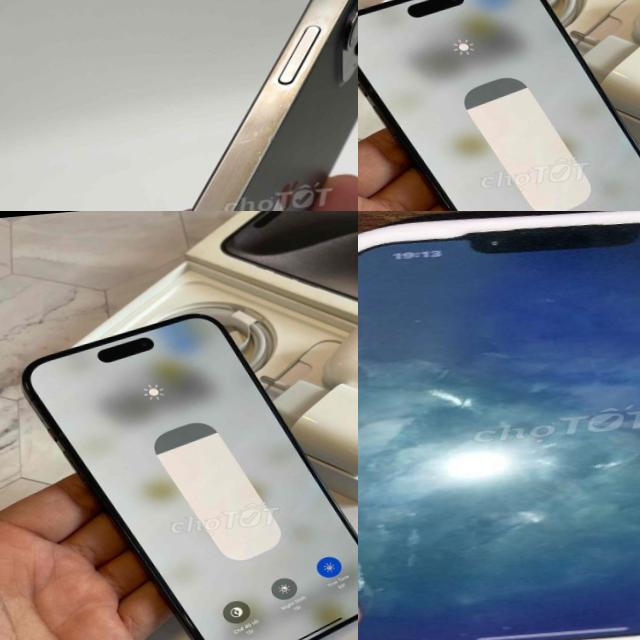gen_12_13: (27, 0, 358, 211)
gen_14: (358, 211, 640, 640)
gen_15: (0, 288, 358, 640), (358, 0, 640, 211)
scratch: (358, 511, 484, 615)
